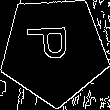P_E: (29, 30, 79, 70)
